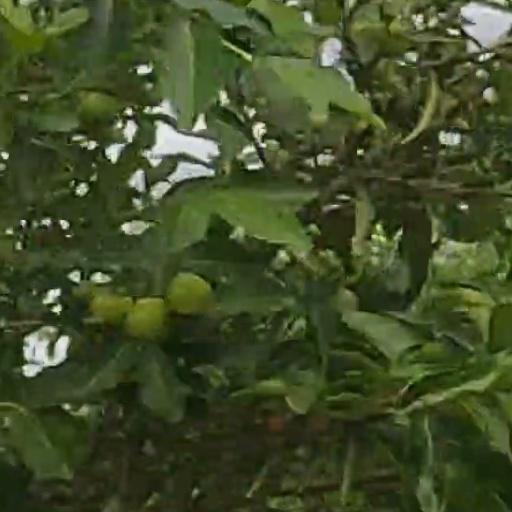acerola: (169, 275, 211, 314), (129, 301, 166, 339), (80, 94, 118, 126), (95, 294, 128, 320)
